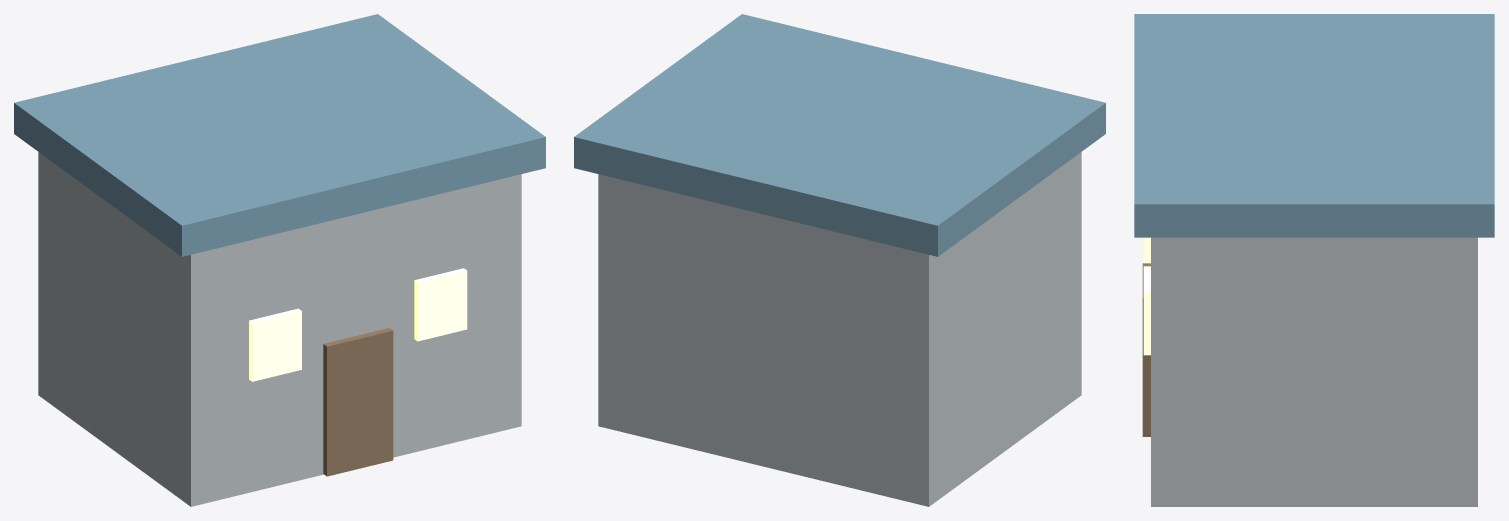
File: shop.glb
3 views of the same model, side by side, from view 1: azimuth 30°, elevation 25°; view 2: azimuth 150°, elevation 25°; view 3: azimuth 270°, elevation 25° (orthographic). The views are drawn at different scales.
Visible parts, largest first — view 1: shop; view 2: shop; view 3: shop.
Part boxes in pixels (box(x1,y1,x2,y2)): shop: box(14, 14, 545, 506); shop: box(574, 14, 1105, 506); shop: box(1134, 14, 1494, 506).
Size of the model in its own units: 2.2 by 1.68 by 1.76.
